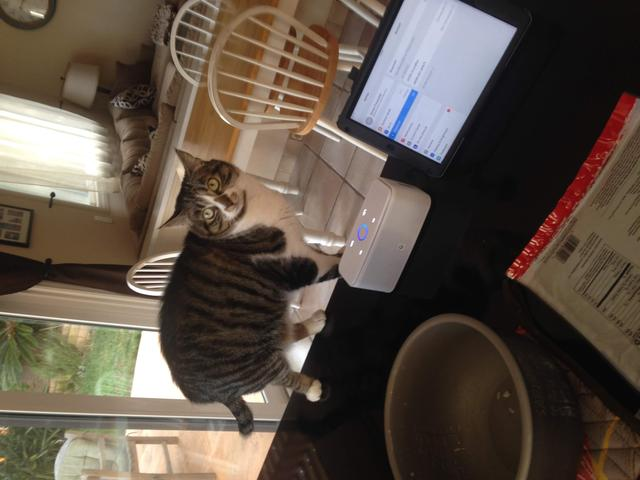playdoh: (156, 147, 341, 440)
